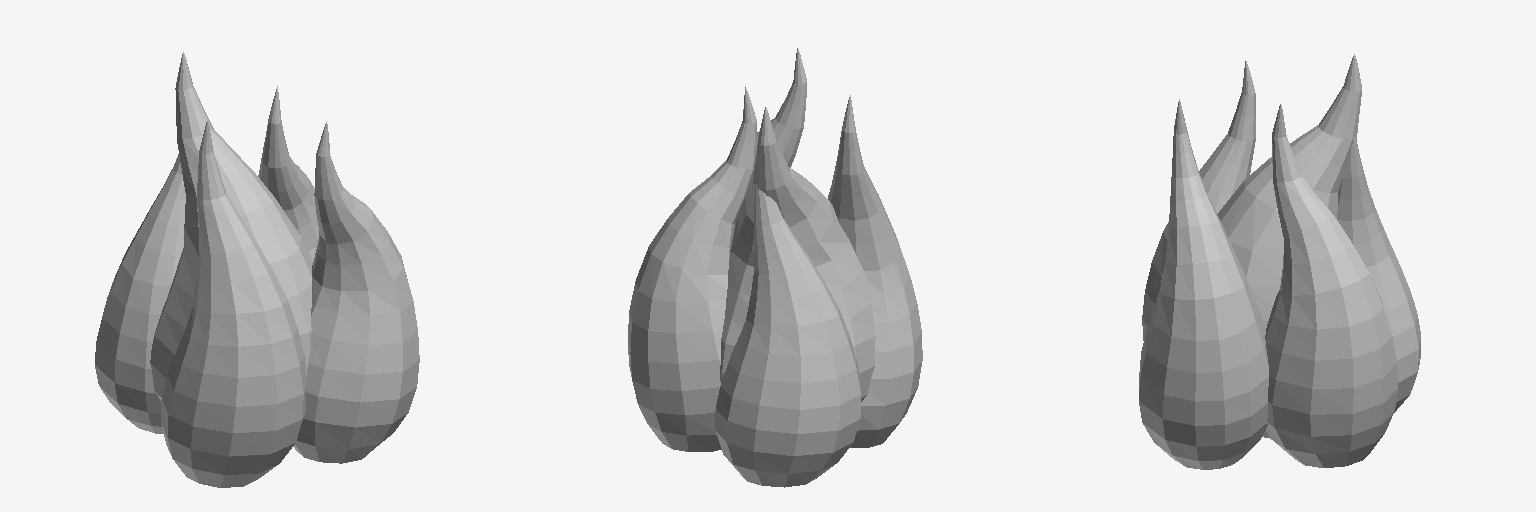
File: fire_000061.obj
3 renders of one model, left to right at view 1: azimuth 30°, elevation 25°; view 2: azimuth 150°, elevation 25°; view 3: azimuth 270°, elevation 25°, orthographic.
Parts seen in each view (by area): view 1: flame_NurbsPath.015; view 2: flame_NurbsPath.015; view 3: flame_NurbsPath.015.
Part boxes in pixels (x1,y1,x2,y2): flame_NurbsPath.015: (95,52,419,487); flame_NurbsPath.015: (628,48,922,487); flame_NurbsPath.015: (1139,54,1420,469).
Bounding box in the file's own units: 0.765 × 1.16 × 0.7987.